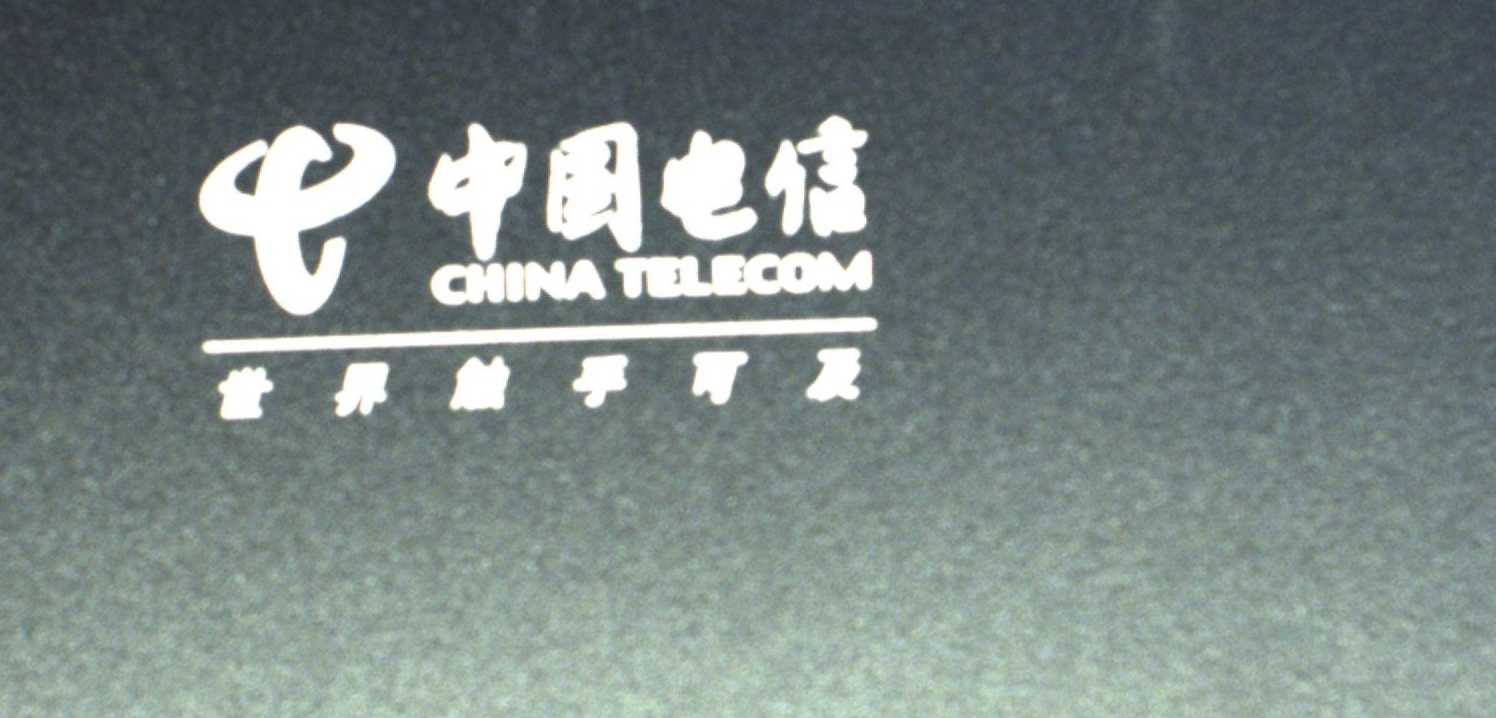AB_ChinaTelecom: (184, 109, 885, 430)
